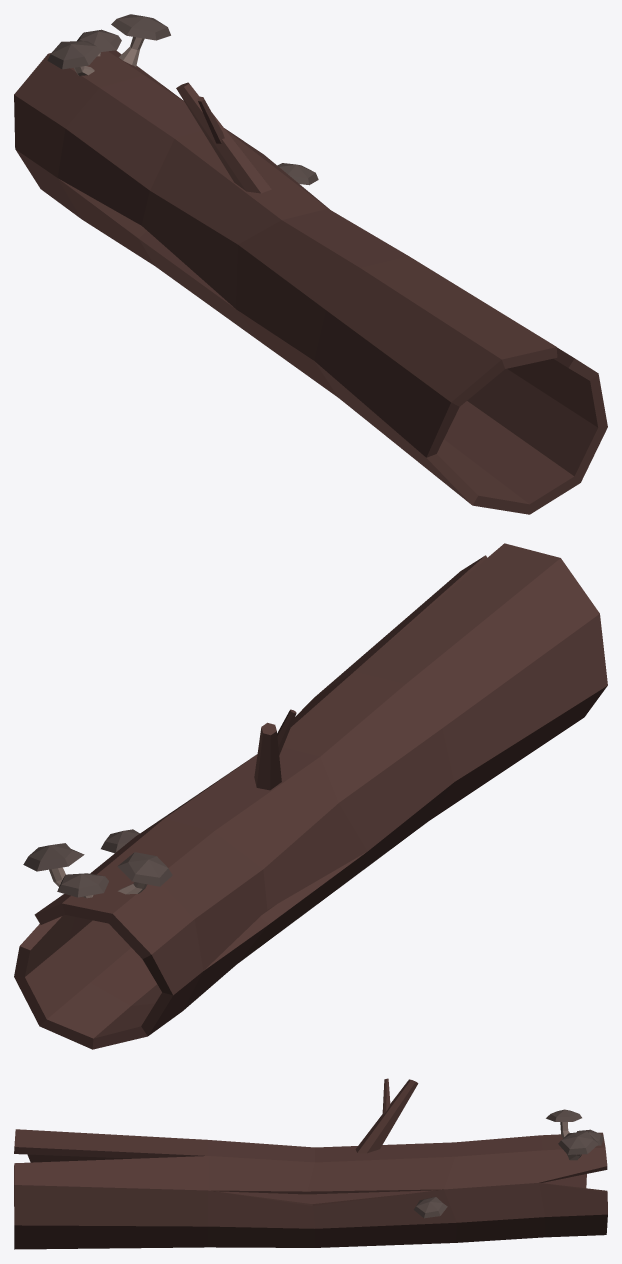
File: WoodLog.glb
The picture shows the model from 3 angles, top to bottom: view 1: azimuth 30°, elevation 25°; view 2: azimuth 150°, elevation 25°; view 3: azimuth 270°, elevation 25°; orthographic projection. The views are drawn at different scales.
Parts seen in each view (by area): view 1: WoodLog; view 2: WoodLog; view 3: WoodLog.
Boxes of the visible parts, x1,y1,x2,y2 form: WoodLog: (14,14,607,514); WoodLog: (14,543,607,1049); WoodLog: (14,1078,607,1249).
Bounding box in the file's own units: 0.6329 × 0.7483 × 2.67.
